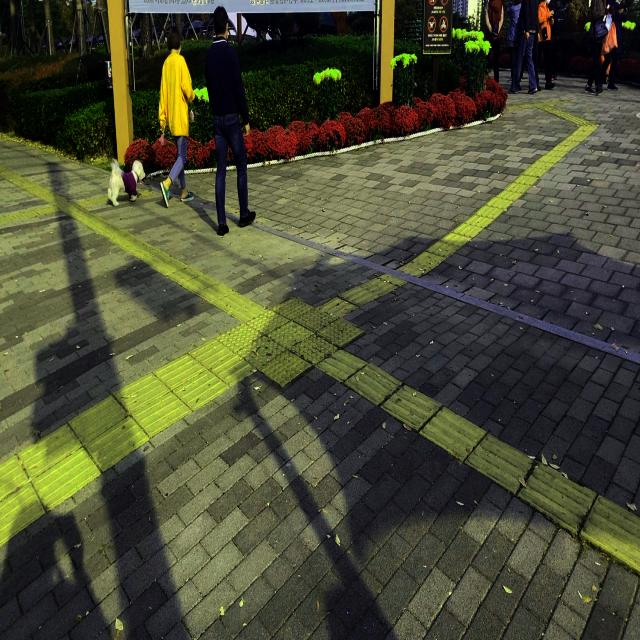Leashed_Dog: (106, 104, 178, 208)
